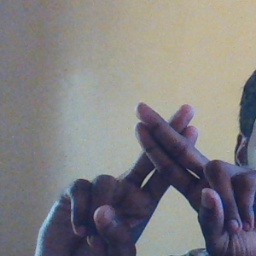F: (112, 90, 239, 232)
